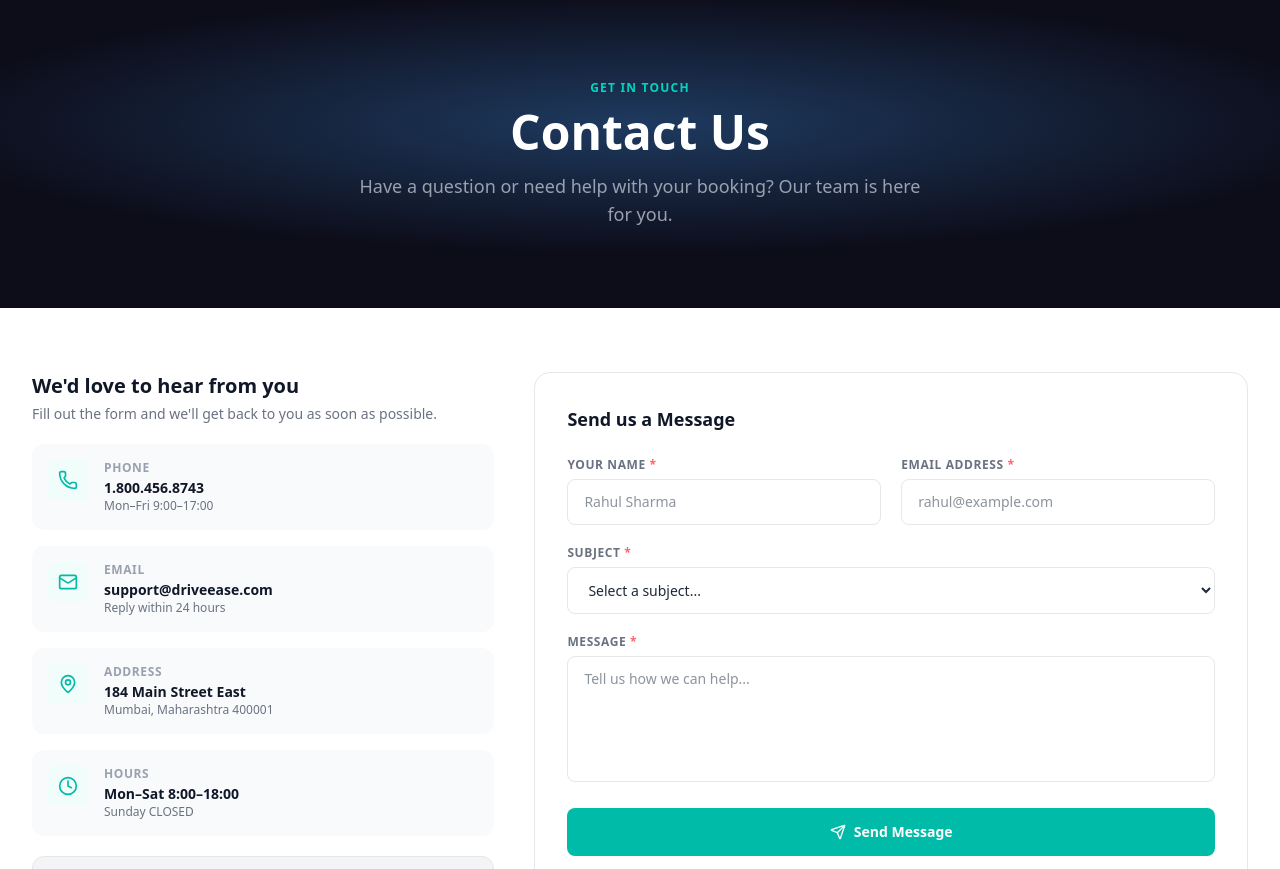
it: Contact page › shows validation error when name is empty
Click the button "Send Message".
click(891, 832)  # box [567,808,1215,856]
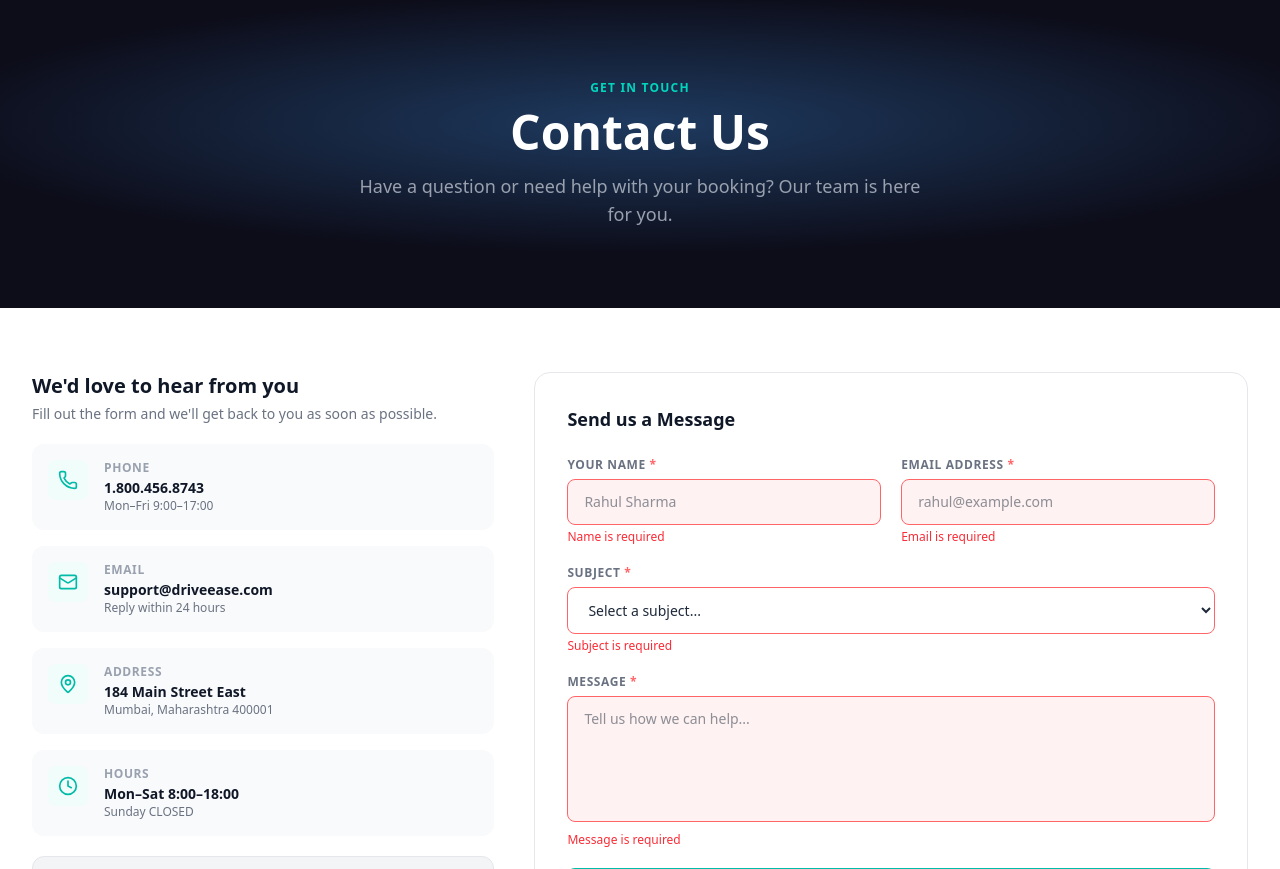
Expected: the text "Name is required" is shown, [567,528,665,545]
